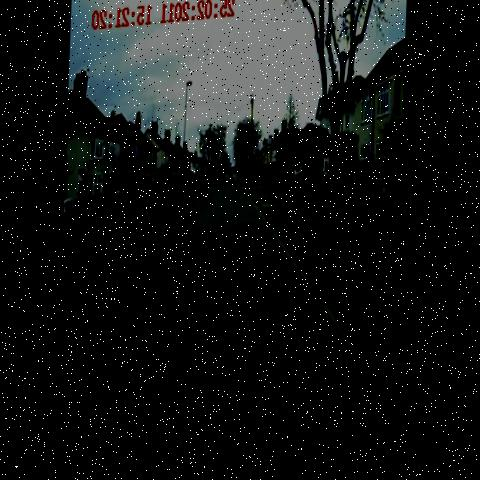pothole: (180, 269, 215, 302), (235, 219, 263, 247), (218, 208, 233, 238)
